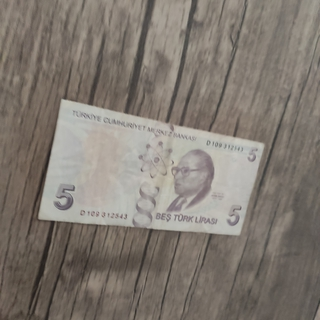5TLBack: (35, 97, 265, 237)
